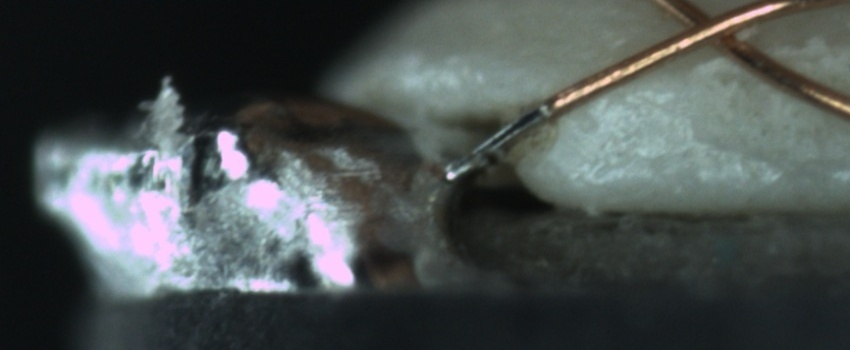CL: (656, 0, 766, 62)
TS: (439, 98, 554, 177)
